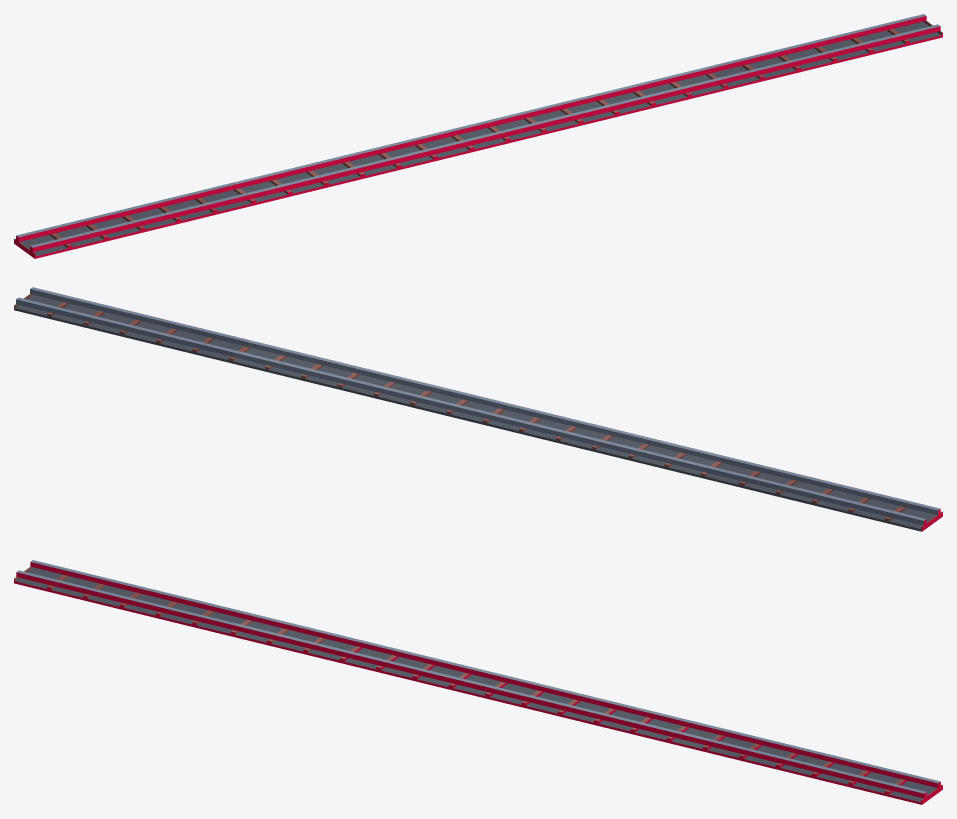
File: rail.gltf
3 renders of one model, top to bottom at view 1: azimuth 30°, elevation 25°; view 2: azimuth 150°, elevation 25°; view 3: azimuth 330°, elevation 25°, orthographic.
Visible parts, largest first — view 1: cube; view 2: cube; view 3: cube.
Boxes of the visible parts, left/top/right/bottom form: cube: left=14, top=14, right=942, bottom=258; cube: left=14, top=287, right=942, bottom=531; cube: left=14, top=560, right=942, bottom=804.
Size of the model in its own units: 25 by 0.25 by 1.
1 material, 1 textured.
